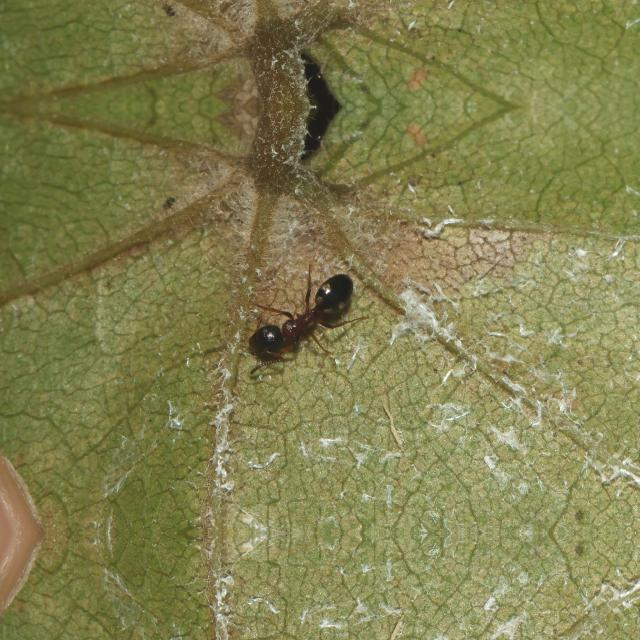Dolichoderus: (220, 255, 384, 373)
